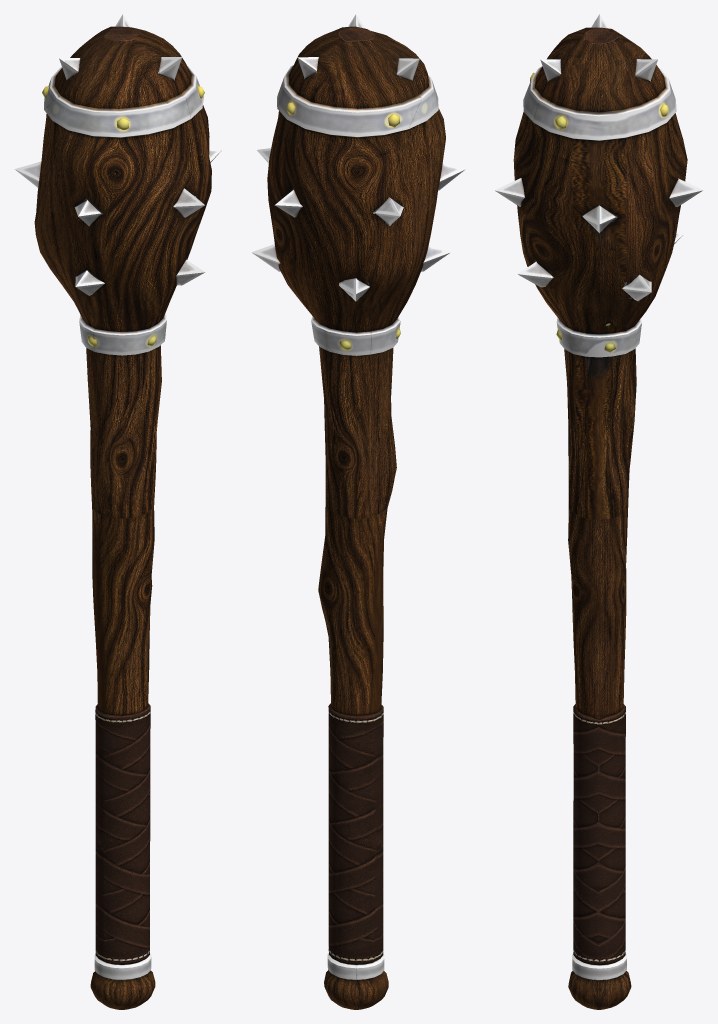
File: w_club_t2.glb
3 views of the same model, side by side, from view 1: azimuth 30°, elevation 25°; view 2: azimuth 150°, elevation 25°; view 3: azimuth 270°, elevation 25° (orthographic).
Visible parts, largest first — view 1: w_club; view 2: w_club; view 3: w_club.
Part boxes in pixels (bbox=[...]): w_club: bbox=[14, 14, 221, 1009]; w_club: bbox=[251, 14, 465, 1009]; w_club: bbox=[495, 14, 702, 1009].
Size of the model in its own units: 10.55 by 55.35 by 10.82.
1 material, 1 textured.
